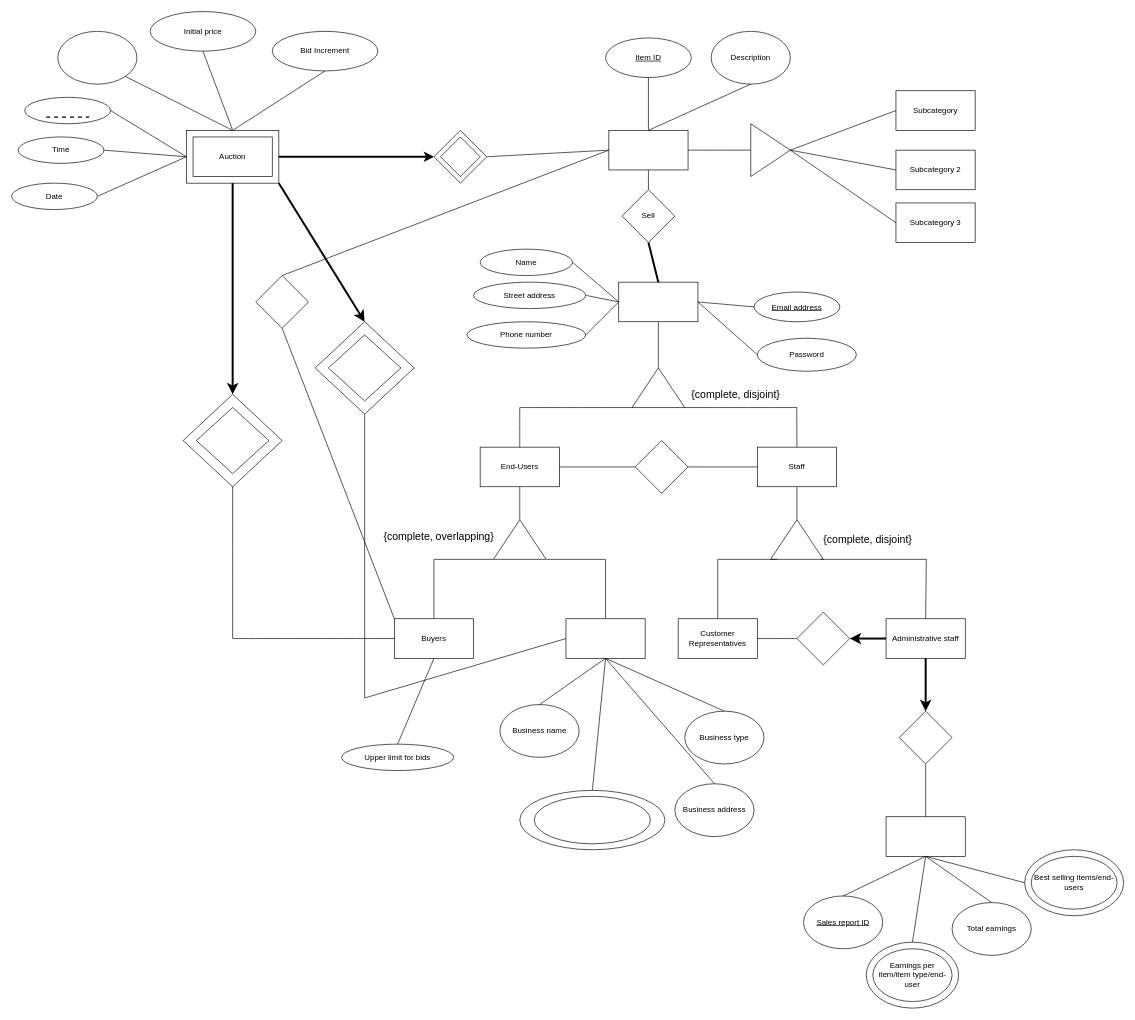
Some shapes in this 1135 by 1020 pixel diagram are drawn without their labels. Here are the shapes that lost their labels. From the top down, the centre of each, then its label:
At point (97, 57): "Minimum price".
At point (67, 110): "Auction ID".
At point (460, 156): "Sold at".
At point (648, 150): "Item".
At point (282, 301): "Set alerts".
At point (658, 301): "Users".
At point (364, 367): "Post items".
At point (232, 440): "Post bids".
At point (661, 466): "Help".
At point (605, 638): "Sellers".
At point (823, 638): "Creates accounts".
At point (925, 737): "Creates".
At point (592, 820): "Owners/officers/directors/account managers".
At point (925, 836): "Sales report".
